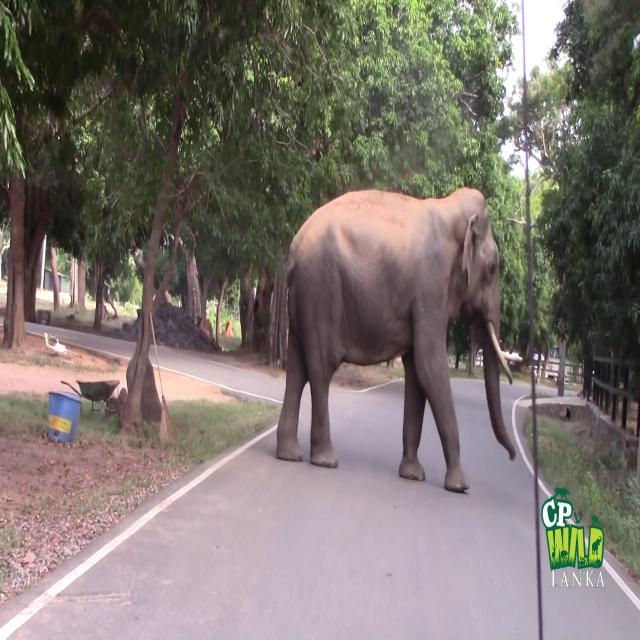Elephant: (274, 185, 516, 492)
